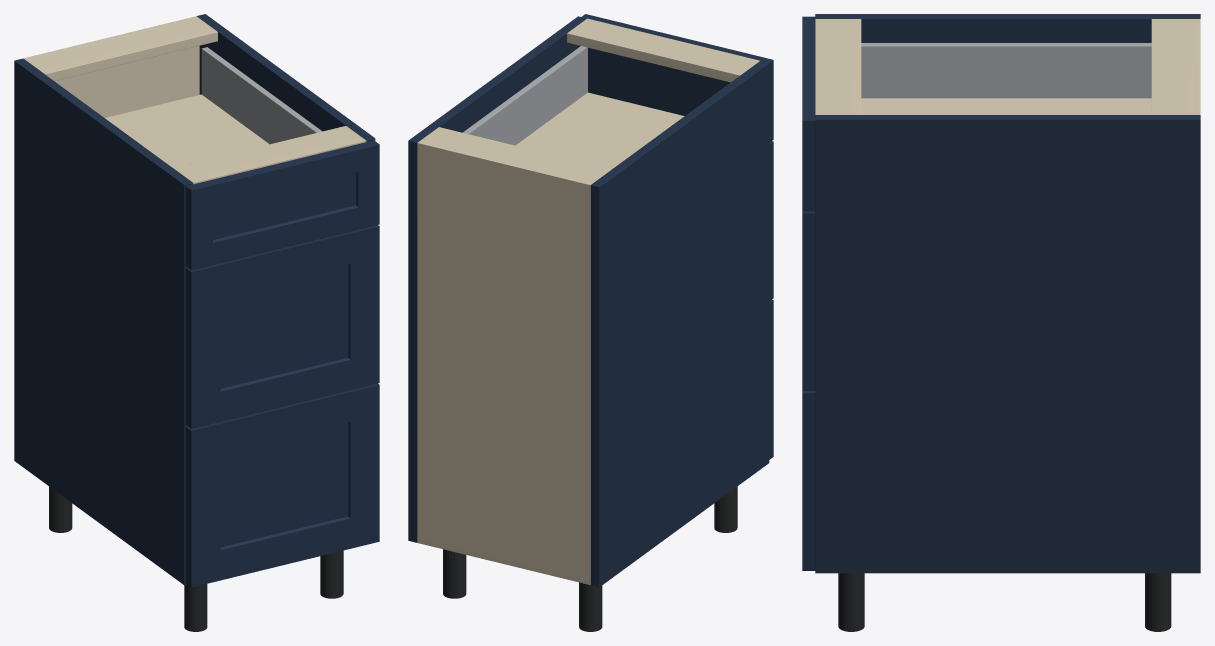
Rendered from oppein-ply-bss-3db15.glb.
The picture shows the model from 3 angles, left to right: view 1: azimuth 30°, elevation 25°; view 2: azimuth 150°, elevation 25°; view 3: azimuth 270°, elevation 25°; orthographic projection. The views are drawn at different scales.
Parts seen in each view (by area): view 1: Cabinet side, Drawer front.001, Drawer front, Drawer front.002, Cabinet back, Drawer floor.002, Drawer side.005, Top support rail, Cabinet side.001, Top support rail.001, Adjustable foot.001, Adjustable foot.003 (+1 smaller); view 2: Cabinet side, Cabinet back, Cabinet side.001, Drawer floor.002, Drawer front.002, Drawer side.005, Top support rail.001, Top support rail, Cabinet bottom, Adjustable foot, Adjustable foot.002, Adjustable foot.001 (+2 smaller); view 3: Cabinet side.001, Drawer side.004, Cabinet side, Drawer floor.002, Top support rail.001, Top support rail, Drawer front.002, Drawer front, Drawer front.001, Adjustable foot.002, Adjustable foot.003, Cabinet back.
Boxes of the visible parts, bbox=[...] form: Cabinet side: bbox=[14, 58, 192, 585]; Drawer front.001: bbox=[185, 225, 379, 428]; Drawer front: bbox=[185, 383, 379, 587]; Drawer front.002: bbox=[185, 140, 379, 270]; Cabinet back: bbox=[23, 16, 199, 117]; Drawer floor.002: bbox=[105, 94, 269, 167]; Drawer side.005: bbox=[201, 47, 322, 144]; Top support rail: bbox=[26, 18, 217, 80]; Cabinet side.001: bbox=[197, 14, 375, 141]; Top support rail.001: bbox=[173, 126, 366, 184]; Adjustable foot.001: bbox=[184, 584, 207, 631]; Adjustable foot.003: bbox=[320, 550, 343, 598]; Cabinet side: bbox=[590, 61, 769, 587]; Cabinet back: bbox=[417, 140, 593, 584]; Cabinet side.001: bbox=[408, 16, 586, 542]; Drawer floor.002: bbox=[516, 92, 684, 168]; Drawer front.002: bbox=[582, 14, 773, 142]; Drawer side.005: bbox=[463, 46, 587, 145]; Top support rail.001: bbox=[567, 18, 759, 82]; Top support rail: bbox=[421, 127, 611, 183]; Cabinet bottom: bbox=[417, 534, 590, 584]; Adjustable foot: bbox=[579, 582, 602, 631]; Adjustable foot.002: bbox=[443, 549, 466, 598]; Adjustable foot.001: bbox=[714, 486, 737, 532]; Cabinet side.001: bbox=[815, 115, 1200, 573]; Drawer side.004: bbox=[861, 43, 1151, 98]; Cabinet side: bbox=[815, 14, 1200, 42]; Drawer floor.002: bbox=[861, 98, 1151, 114]; Top support rail.001: bbox=[815, 19, 861, 114]; Top support rail: bbox=[1151, 19, 1193, 114]; Drawer front.002: bbox=[802, 16, 815, 211]; Drawer front: bbox=[802, 391, 815, 570]; Drawer front.001: bbox=[802, 211, 815, 390]; Adjustable foot.002: bbox=[1145, 573, 1171, 631]; Adjustable foot.003: bbox=[838, 573, 864, 631]; Cabinet back: bbox=[1193, 19, 1200, 114].
Bounding box in the file's own units: 0.381 × 0.8763 × 0.6064.
